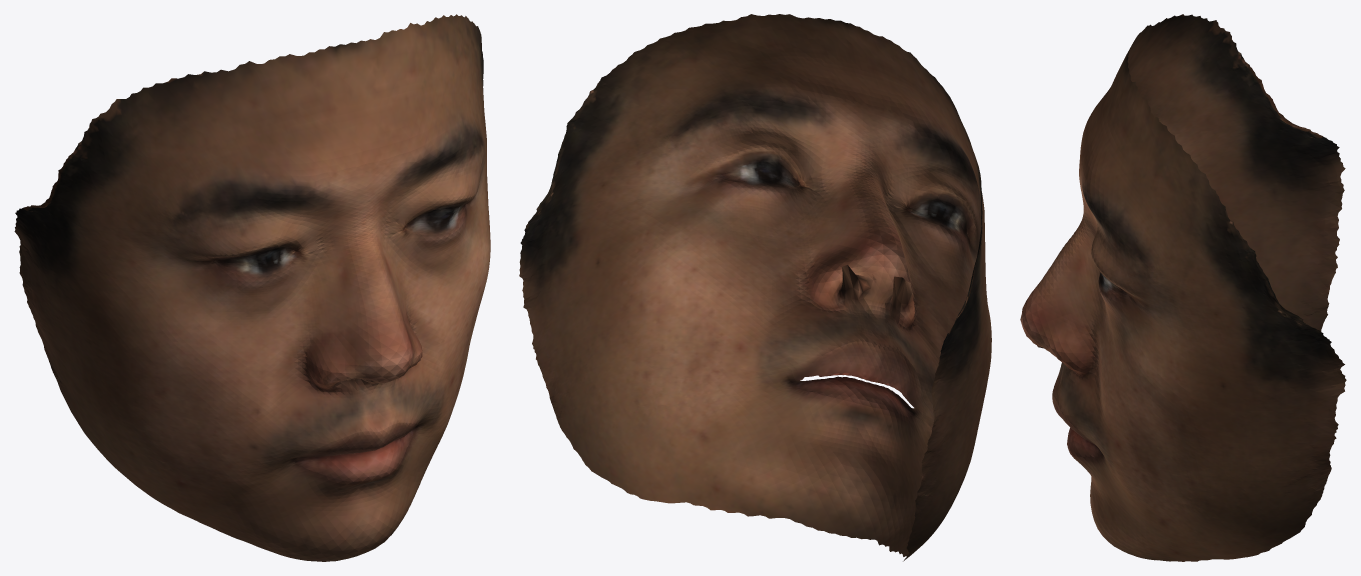
The model's file is predicted_face.obj.
3 renders of one model, left to right at view 1: azimuth 30°, elevation 25°; view 2: azimuth 150°, elevation 25°; view 3: azimuth 270°, elevation 25°, orthographic. The views are drawn at different scales.
Bounding box in the file's own units: 1.49 × 1.71 × 1.04.
